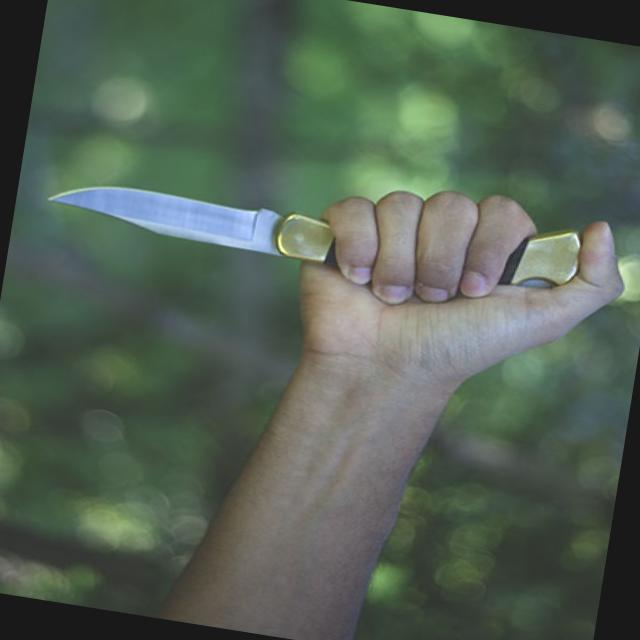knife: (25, 117, 487, 320)
